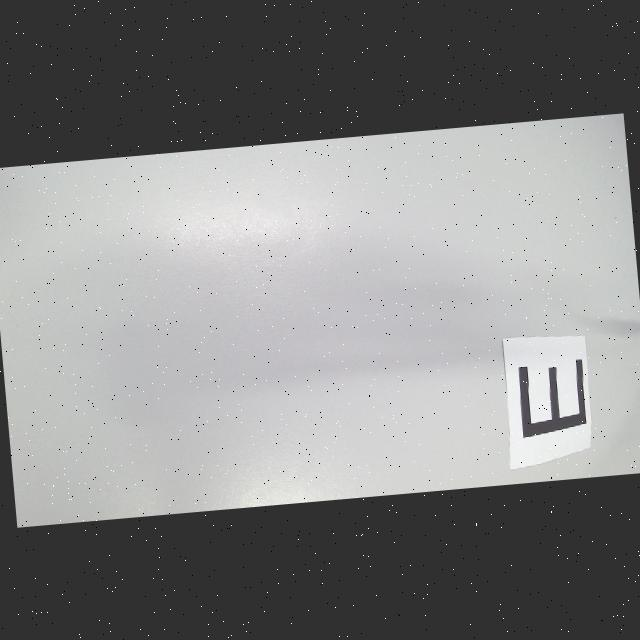FAKE: (516, 358, 589, 438)
